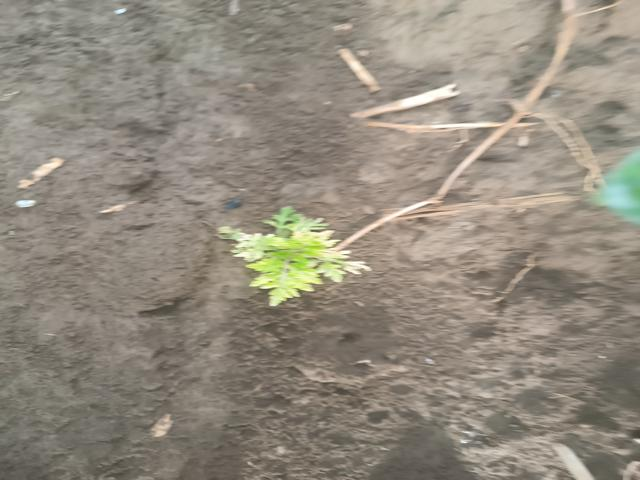bad weed: (226, 197, 377, 330)
